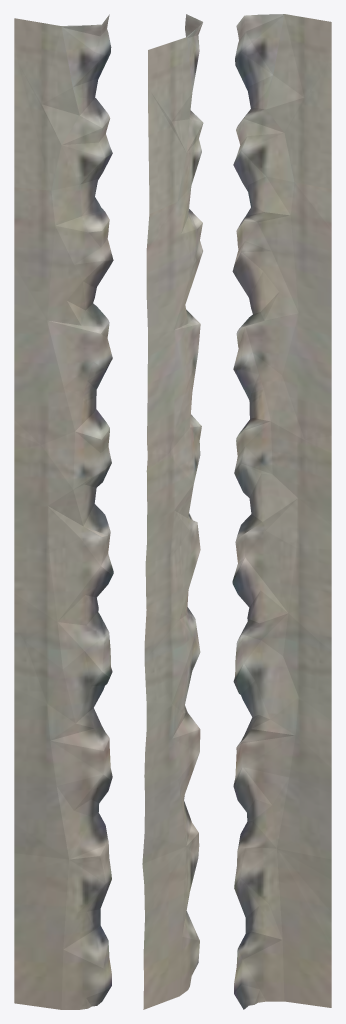
Rendered from Tile_+004_+001_L21_0002110.glb.
3 renders of one model, left to right at view 1: azimuth 90°, elevation 25°; view 2: azimuth 150°, elevation 25°; view 3: azimuth 270°, elevation 25°, orthographic. The views are drawn at different scales.
Visible parts, largest first — view 1: rtc; view 2: rtc; view 3: rtc.
Part boxes in pixels (box(x1,y1,x2,y2)): rtc: box(14, 14, 113, 1009); rtc: box(142, 14, 203, 1009); rtc: box(232, 14, 331, 1009).
Bounding box in the file's own units: 0.5813 × 20.96 × 1.91.
1 material, 1 textured.
